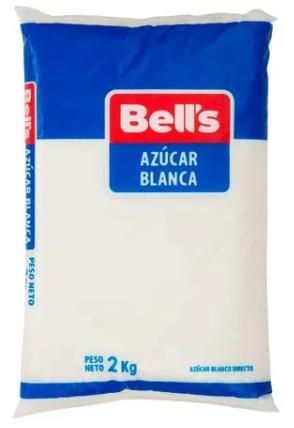brand: (107, 92, 233, 142)
net_weight: (106, 347, 147, 381)
product_name: (127, 143, 214, 189)
